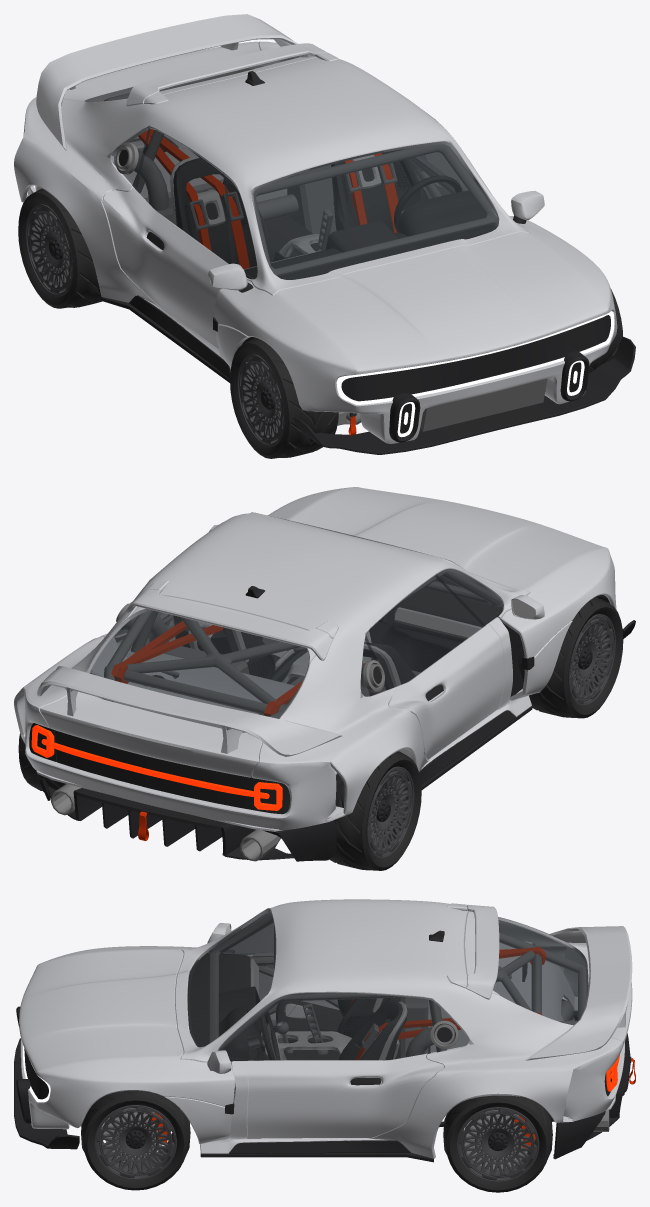
Rendered from ariel-350-v2.glb.
3 renders of one model, top to bottom at view 1: azimuth 30°, elevation 25°; view 2: azimuth 150°, elevation 25°; view 3: azimuth 270°, elevation 25°, orthographic. The views are drawn at different scales.
Visible parts, largest first — view 1: paint, glass, trim, interior_shell, interior_metal, chassis_metal, wheel_fr_tyre, wheel_rr_tyre, wheel_rr_rim, wheel_fr_rim, interior_accent_red, headlight (+1 smaller); view 2: paint, glass, trim, interior_shell, interior_metal, wheel_rr_tyre, wheel_fr_tyre, chassis_metal, wheel_rr_rim, wheel_fr_rim, taillight, interior_panel (+2 smaller); view 3: paint, glass, interior_shell, trim, interior_metal, wheel_fl_rim, wheel_rl_rim, wheel_rl_tyre, wheel_fl_tyre, chassis_metal, interior_panel, interior_accent_red (+2 smaller).
Boxes of the visible parts, box(x1,y1,x2,y2) form: paint: box(14, 14, 617, 443); glass: box(85, 57, 498, 279); trim: box(101, 71, 635, 454); interior_shell: box(173, 149, 496, 279); interior_metal: box(104, 68, 545, 391); chassis_metal: box(115, 142, 547, 431); wheel_fr_tyre: box(230, 337, 338, 458); wheel_rr_tyre: box(18, 188, 102, 308); wheel_rr_rim: box(25, 204, 72, 296); wheel_fr_rim: box(237, 354, 284, 446); interior_accent_red: box(138, 129, 397, 268); headlight: box(336, 311, 614, 437); paint: box(14, 487, 616, 831); glass: box(87, 512, 503, 732); trim: box(29, 586, 635, 861); interior_shell: box(173, 577, 502, 689); interior_metal: box(104, 571, 500, 732); wheel_rr_tyre: box(329, 751, 421, 870); wheel_fr_tyre: box(518, 597, 623, 718); chassis_metal: box(51, 601, 386, 861); wheel_rr_rim: box(367, 766, 414, 858); wheel_fr_rim: box(569, 614, 615, 706); taillight: box(31, 725, 282, 810); interior_panel: box(172, 607, 481, 686); paint: box(19, 899, 632, 1158); glass: box(187, 908, 588, 1060); interior_shell: box(187, 953, 430, 1061); trim: box(14, 930, 631, 1162); interior_metal: box(209, 913, 587, 1059); wheel_fl_rim: box(94, 1105, 176, 1180); wheel_rl_rim: box(457, 1107, 539, 1182); wheel_rl_tyre: box(443, 1095, 552, 1192); wheel_fl_tyre: box(81, 1090, 190, 1190); chassis_metal: box(81, 997, 609, 1163); interior_panel: box(250, 959, 407, 1059); interior_accent_red: box(349, 947, 546, 1059).
Size of the model in its own units: 2.24 by 1.34 by 3.96.
